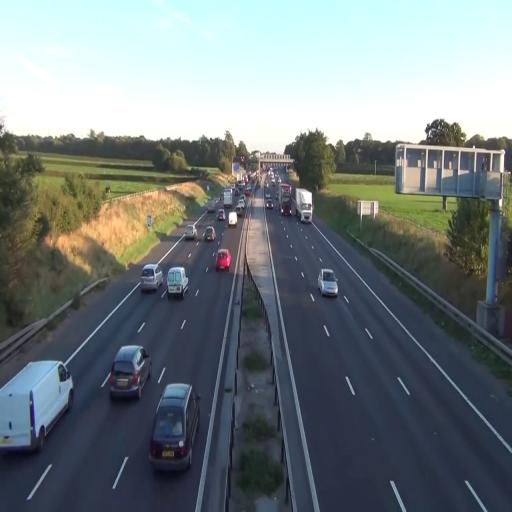vehicle: (0, 359, 74, 454), (149, 382, 199, 473), (108, 344, 152, 401), (167, 266, 189, 300), (140, 264, 162, 294), (294, 188, 312, 222), (319, 268, 338, 298), (214, 247, 231, 273), (280, 183, 292, 215), (228, 211, 237, 226)
